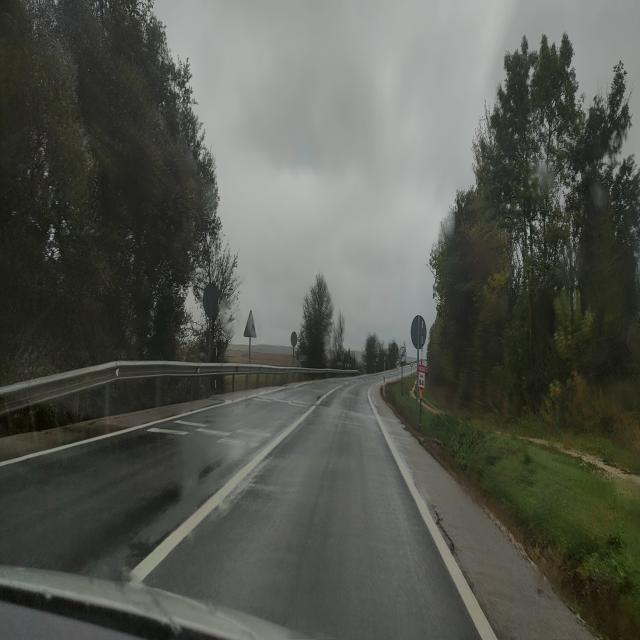Poth-hole: (423, 480, 474, 591)
